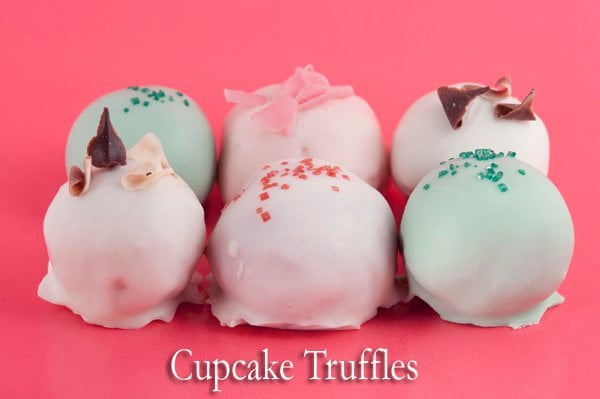steak: (398, 148, 575, 329)
